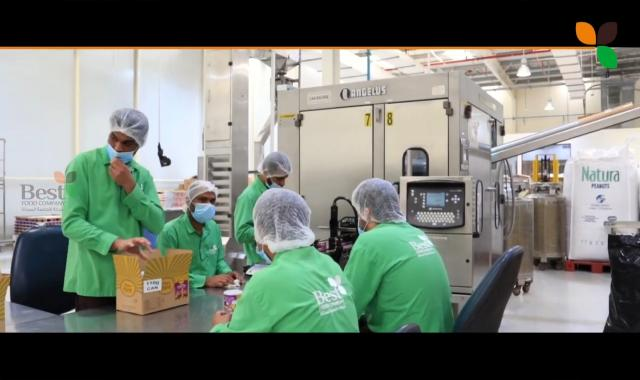hairnet: (251, 188, 311, 248), (352, 178, 403, 224), (105, 104, 146, 153), (184, 178, 216, 214), (258, 150, 289, 180)
